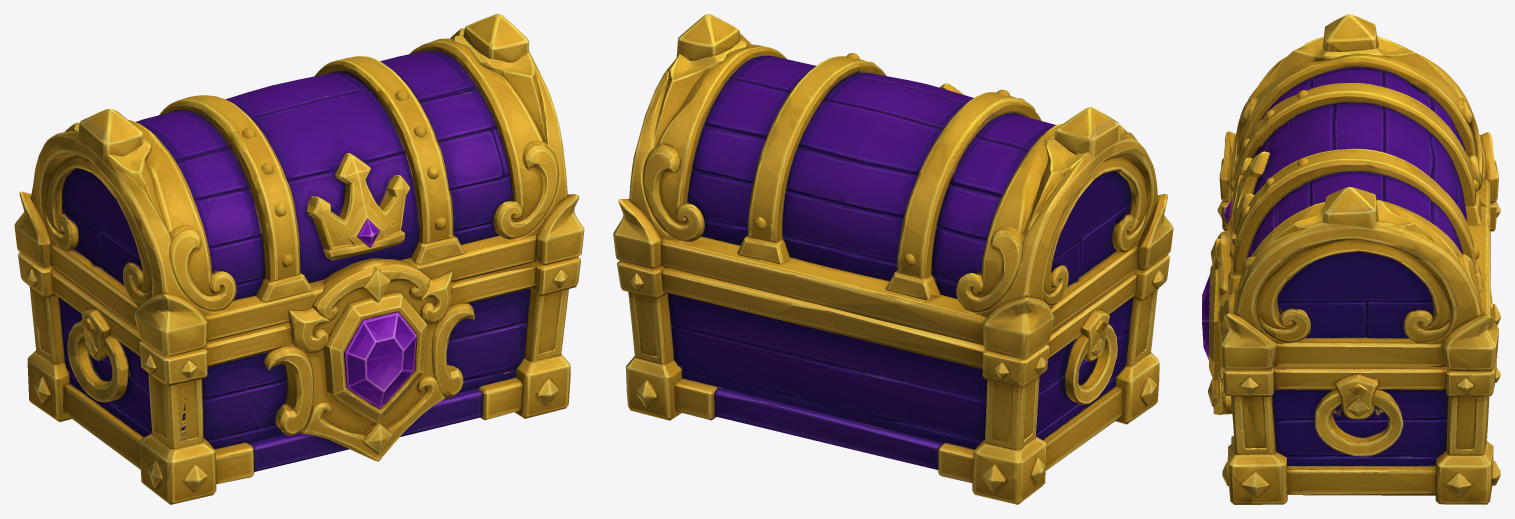
File: royal.glb
The picture shows the model from 3 angles, left to right: view 1: azimuth 30°, elevation 25°; view 2: azimuth 150°, elevation 25°; view 3: azimuth 270°, elevation 25°; orthographic projection. The views are drawn at different scales.
Size of the model in its own units: 1.9 by 1.48 by 1.27.
Materials: 1 (1 with a texture image).
